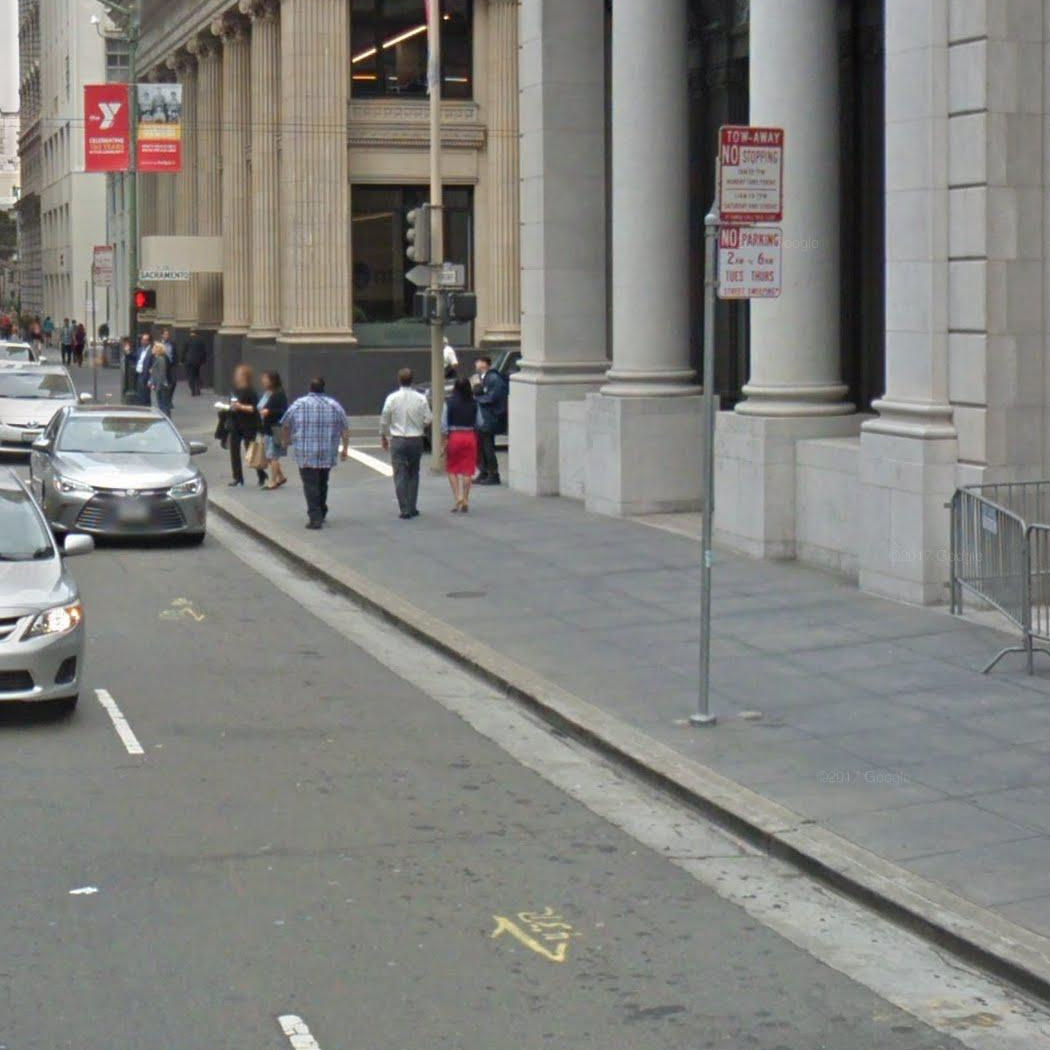No Parking: (716, 224, 784, 299), (93, 269, 112, 287)
